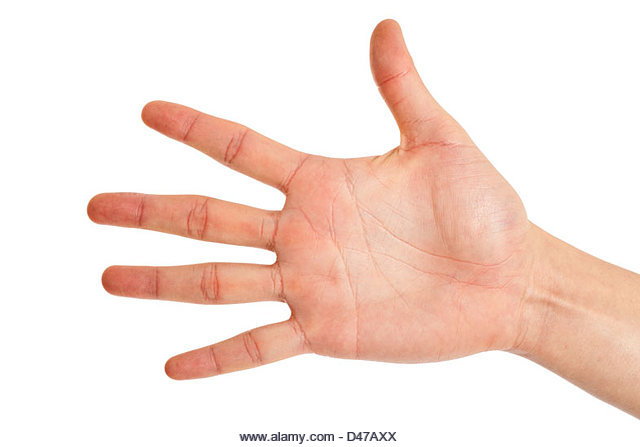non-diseased: (101, 19, 527, 379)
